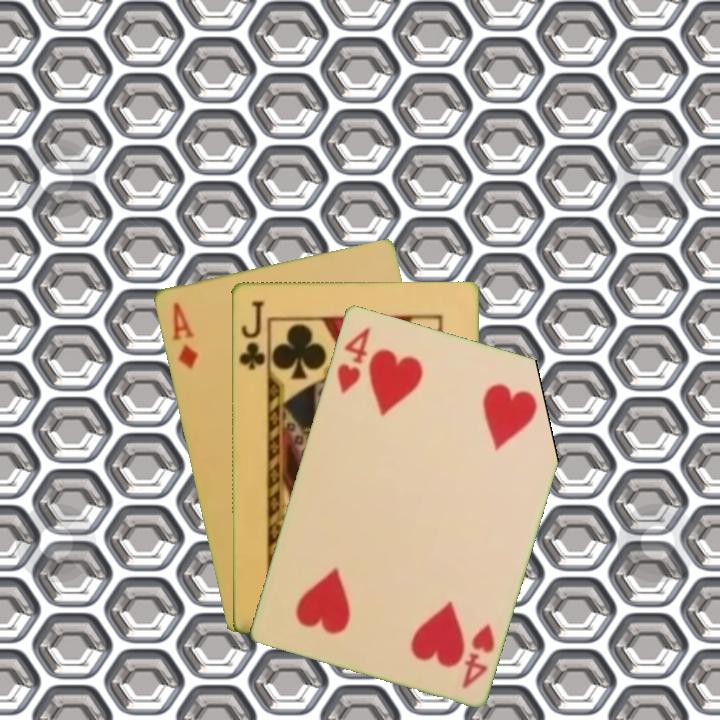4h: (333, 324, 373, 396), (458, 619, 497, 692)
Ad: (168, 298, 201, 372)
Jc: (235, 297, 268, 373)
